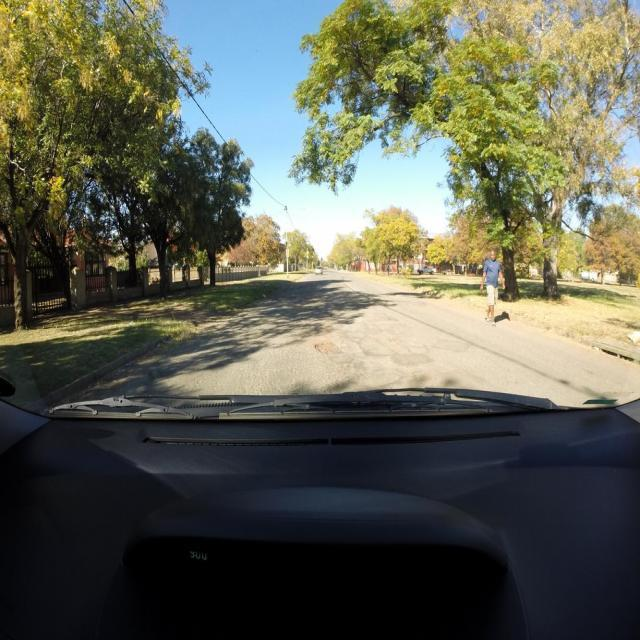Buraco: (314, 340, 340, 356)
